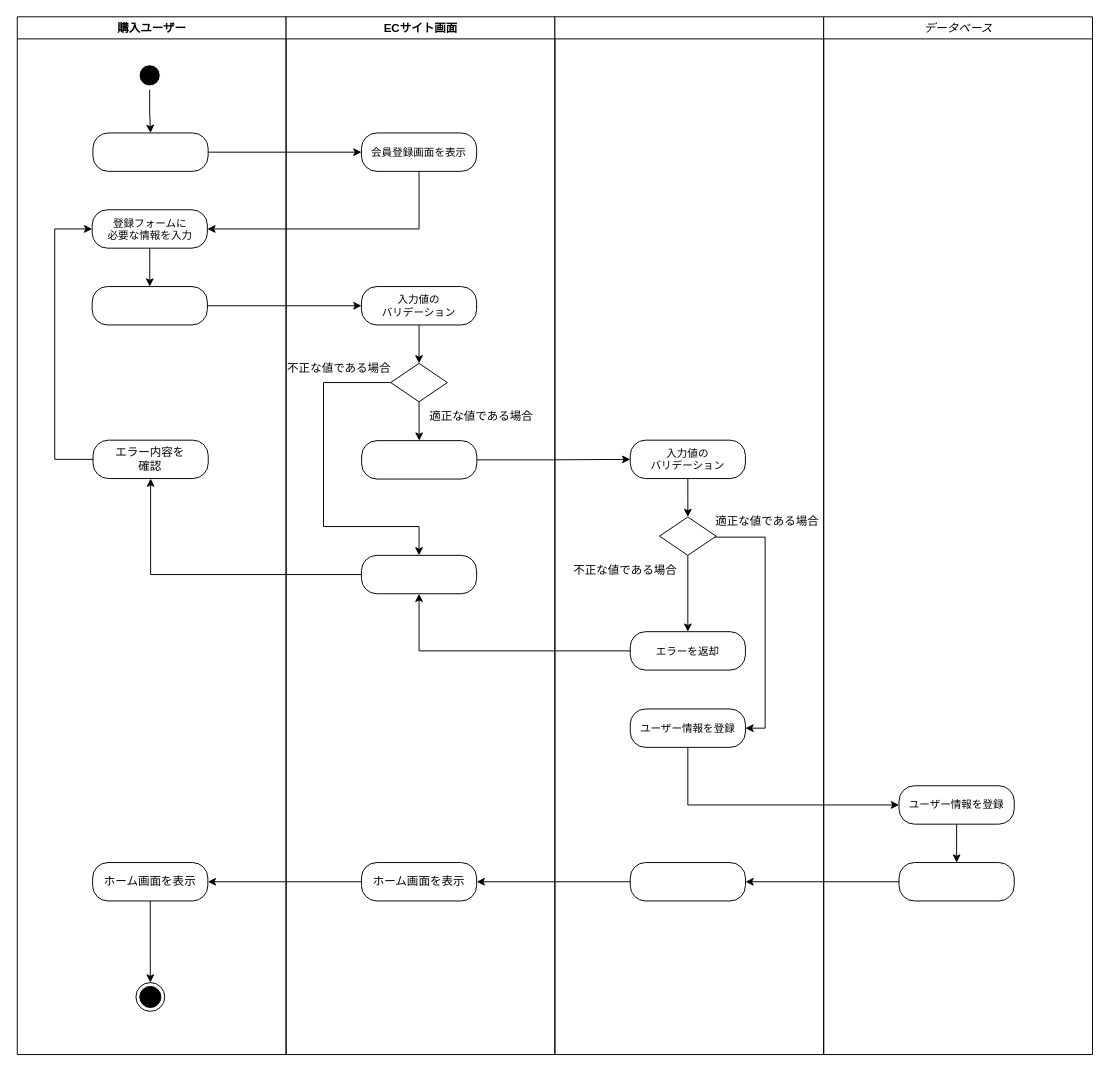
This 1109x1071 diagram has some shape labels left out. The shapes that lost their labels are listed below. From the top down, each one's box as (x1, y1, x2, y2) in pixels, then its label:
(92, 132, 208, 171): 会員登録画面に アクセス
(91, 286, 207, 325): 登録ボタンを押下
(361, 440, 477, 479): ユーザー登録 APIリクエストを送信
(554, 16, 824, 1055): APIサーバー
(360, 554, 477, 594): エラー内容を表示
(629, 862, 745, 901): 登録完了のレスポンス を返却
(898, 862, 1014, 901): 登録完了のレスポンスを返却
